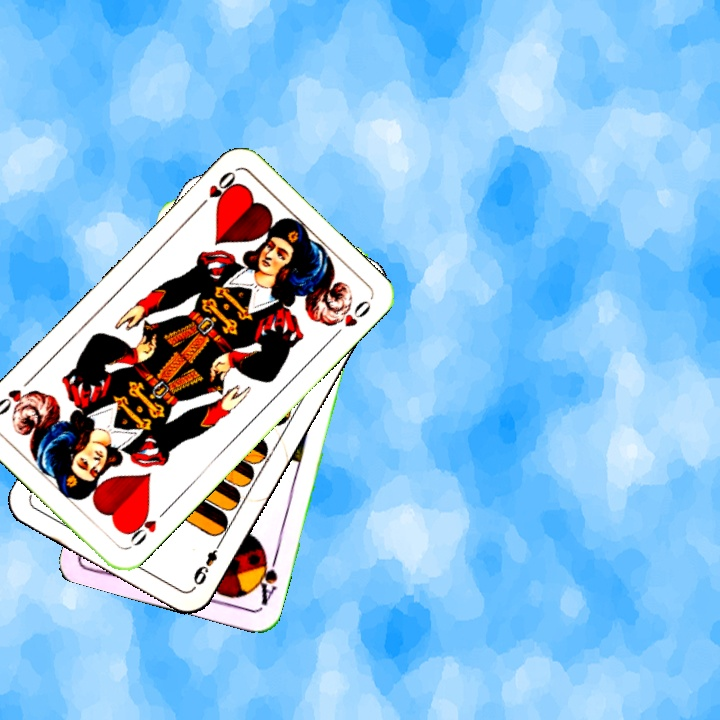E9: (189, 536, 225, 588)
HO: (193, 167, 240, 213), (122, 504, 170, 549)
SA: (251, 549, 281, 608)
